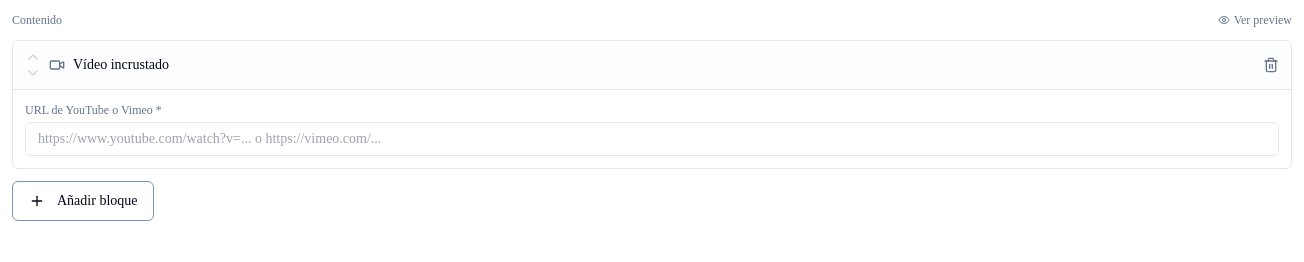
BlockEditor — formularios producen bloques válidos › video: URL basura muestra un error claro y NO actualiza el bloque
Step 1. Type "https://esto-no-es-un-video.example.com" into the field with placeholder "https://www.youtube.com/watch?v=... o https://vimeo.com/..." → (652, 139), box [25,122,1279,156]
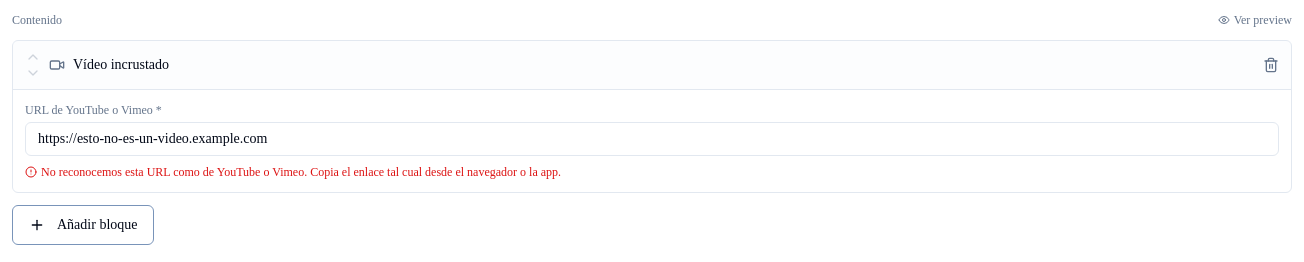
Check: the text "No reconocemos esta URL" is shown, box [41,165,561,179]
